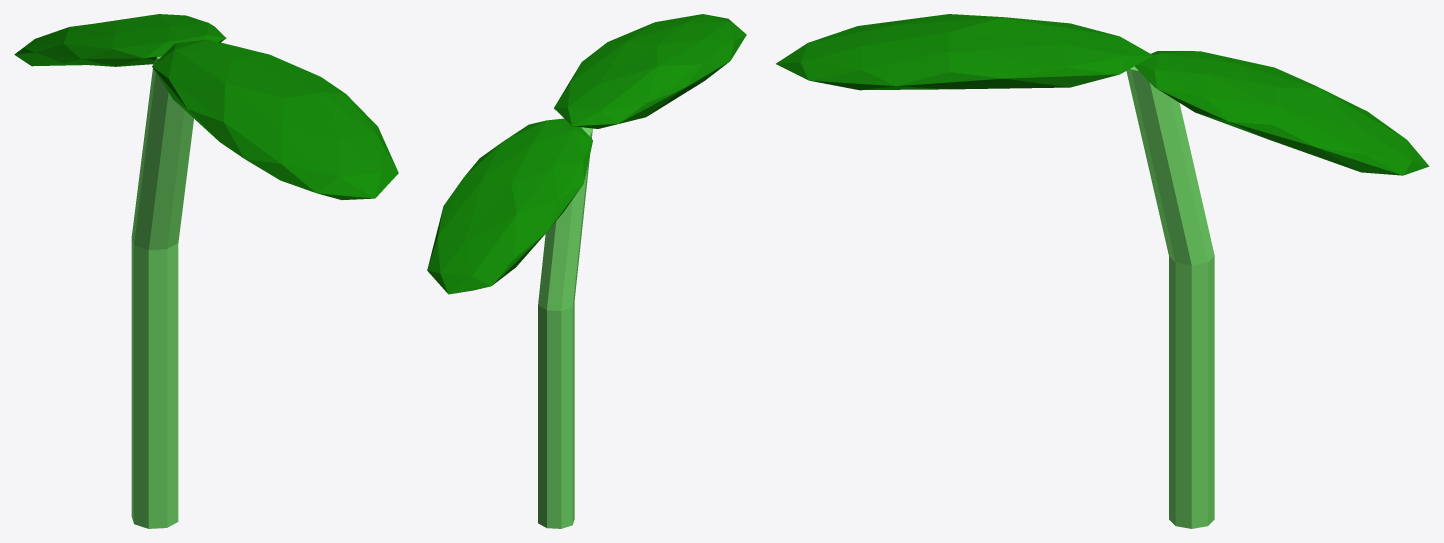
The picture shows the model from 3 angles, left to right: view 1: azimuth 30°, elevation 25°; view 2: azimuth 150°, elevation 25°; view 3: azimuth 270°, elevation 25°; orthographic projection. The views are drawn at different scales.
Visible parts, largest first — view 1: 円柱; view 2: 円柱; view 3: 円柱.
Part boxes in pixels (x1,y1,x2,y2): 円柱: (14,14,398,528); 円柱: (427,14,746,528); 円柱: (776,14,1429,528).
Bounding box in the file's own units: 36.85 × 125 × 152.
